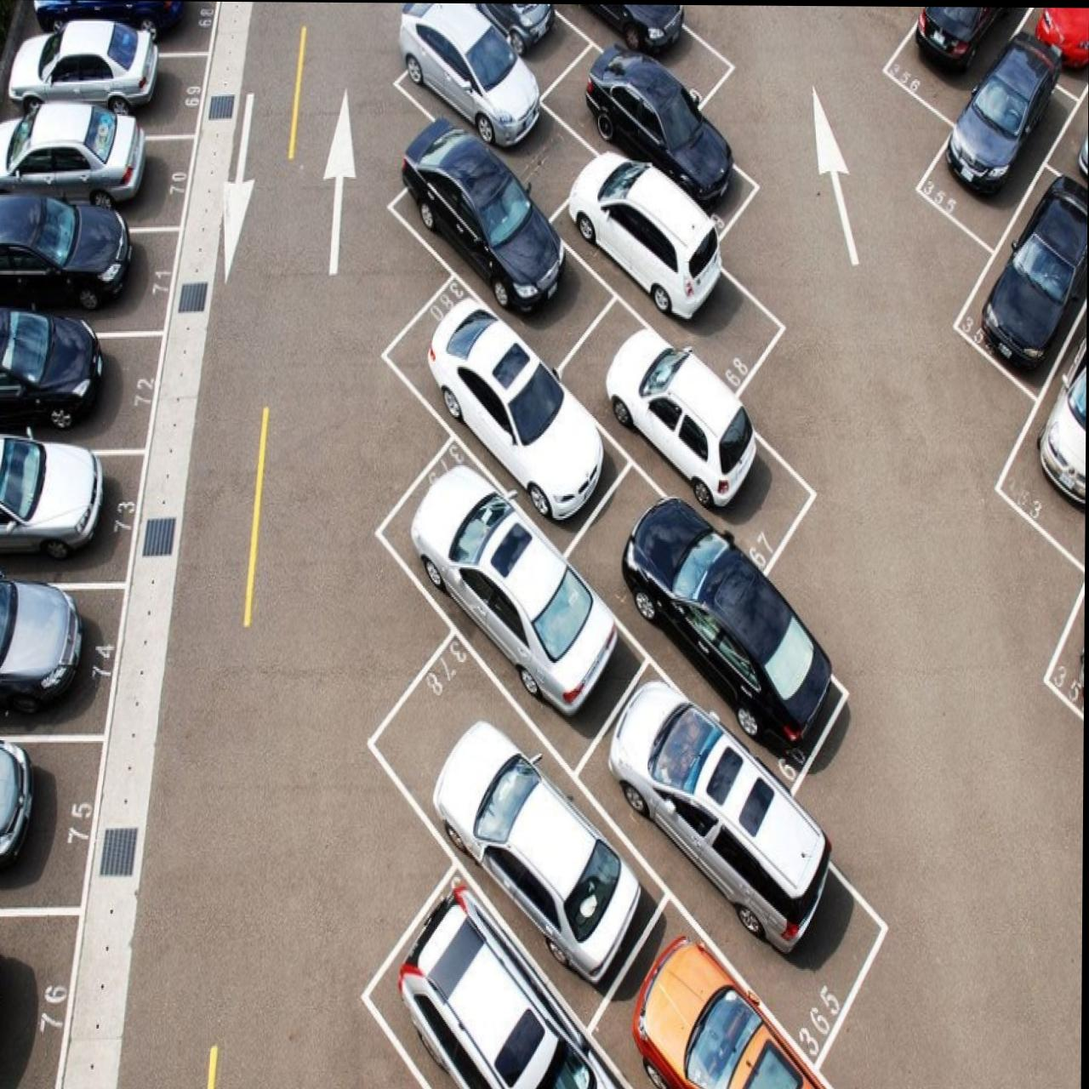cars: (600, 665, 873, 990), (411, 695, 637, 1018), (587, 470, 840, 750), (389, 451, 622, 731), (387, 260, 609, 534), (580, 305, 793, 533), (383, 128, 580, 347), (388, 888, 592, 1089), (578, 150, 757, 365), (627, 921, 825, 1089), (392, 10, 564, 186), (566, 44, 745, 203), (972, 178, 1086, 407), (932, 51, 1057, 245), (0, 444, 129, 594), (0, 225, 180, 324), (0, 582, 105, 741), (0, 339, 165, 437), (884, 7, 1013, 127), (12, 32, 204, 112), (13, 131, 191, 209)
